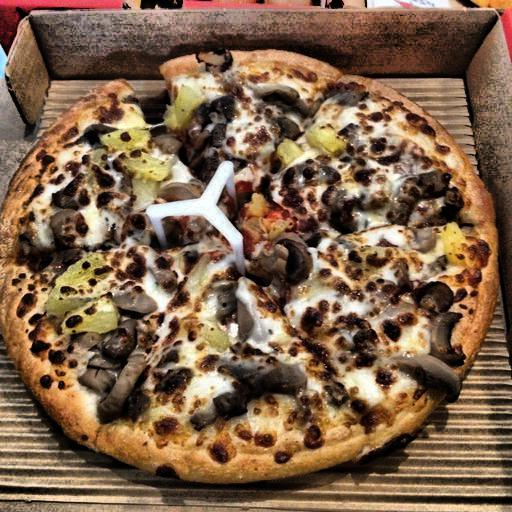pizza: (2, 45, 489, 486)
